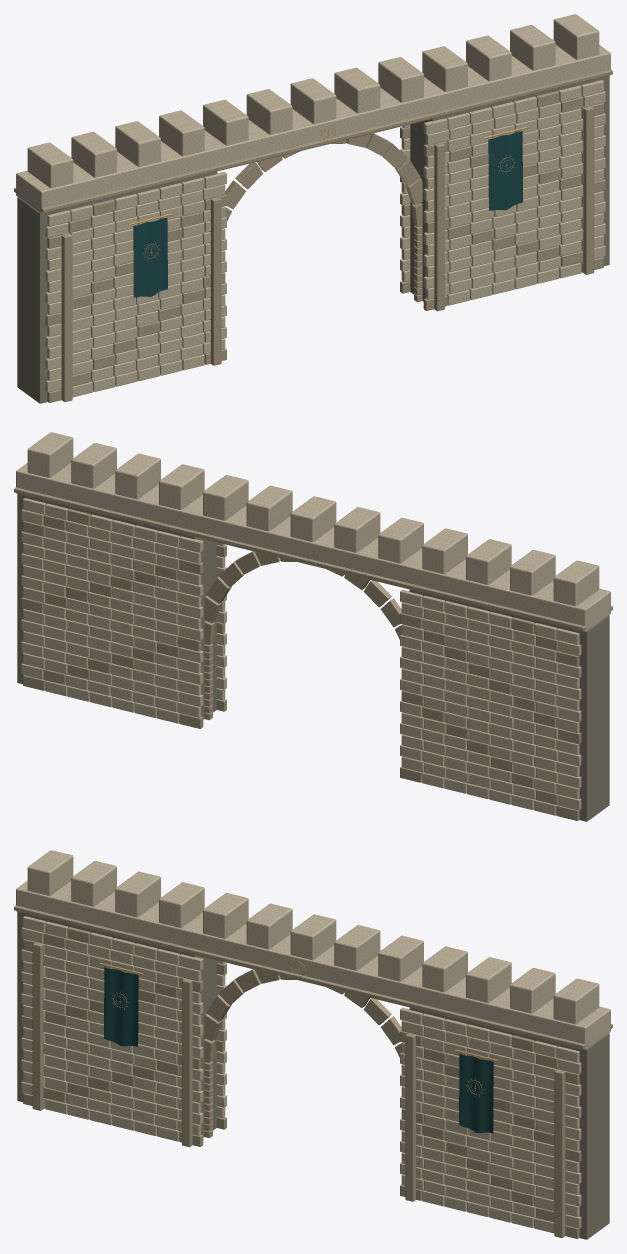
File: castle_gate.glb
The picture shows the model from 3 angles, top to bottom: view 1: azimuth 30°, elevation 25°; view 2: azimuth 150°, elevation 25°; view 3: azimuth 330°, elevation 25°; orthographic projection.
Parts seen in each view (by area): view 1: Gatewall_limestone, Gatewall_cut_stone, Gatewall_mortar, Embroidered banner_teal_cloth, Embroidered banner.001_teal_cloth; view 2: Gatewall_limestone, Gatewall_cut_stone, Gatewall_mortar; view 3: Gatewall_limestone, Gatewall_cut_stone, Gatewall_mortar, Embroidered banner.001_teal_cloth, Embroidered banner_teal_cloth.
Boxes of the visible parts, x1,y1,x2,y2 form: Gatewall_limestone: (16,14,610,397); Gatewall_cut_stone: (14,69,612,402); Gatewall_mortar: (17,76,609,403); Embroidered banner_teal_cloth: (133,217,167,297); Embroidered banner.001_teal_cloth: (488,131,522,210); Gatewall_limestone: (16,432,610,815); Gatewall_cut_stone: (14,487,612,820); Gatewall_mortar: (17,494,609,821); Gatewall_limestone: (16,850,610,1233); Gatewall_cut_stone: (14,905,612,1238); Gatewall_mortar: (17,912,609,1239); Embroidered banner.001_teal_cloth: (459,1054,493,1133); Embroidered banner_teal_cloth: (104,967,138,1046).
Bounding box in the file's own units: 26 × 10.34 × 2.43.
5 materials, 3 textured.
